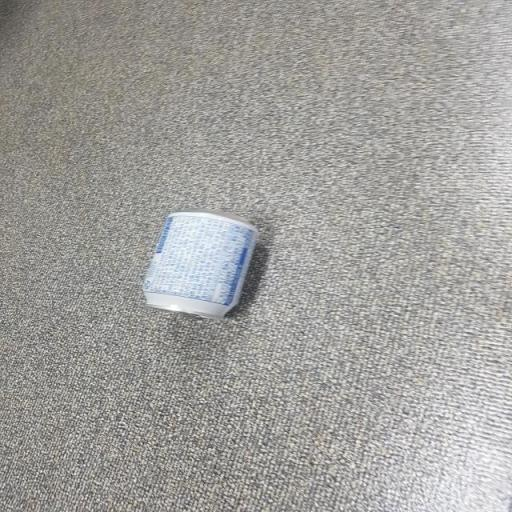metal: (109, 199, 278, 343)
